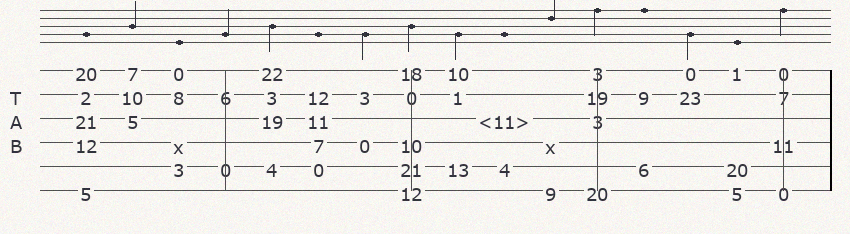0: (173, 62, 188, 79), (220, 158, 235, 175), (313, 158, 328, 175), (359, 134, 374, 151), (406, 86, 421, 103), (685, 62, 700, 79), (778, 62, 793, 79), (778, 182, 793, 199)
1: (452, 86, 467, 103), (731, 62, 746, 79)
10: (121, 86, 147, 103), (400, 134, 426, 151), (447, 62, 473, 79)
11: (307, 110, 333, 127), (772, 134, 798, 151)
12: (75, 134, 101, 151), (307, 86, 333, 103), (400, 182, 426, 199)
13: (447, 158, 473, 175)
18: (400, 62, 426, 79)
19: (261, 110, 287, 127), (586, 86, 612, 103)
2: (80, 86, 95, 103)
20: (75, 62, 101, 79), (586, 182, 612, 199), (726, 158, 752, 175)
21: (75, 110, 101, 127), (400, 158, 426, 175)
22: (261, 62, 287, 79)
23: (679, 86, 705, 103)
3: (173, 158, 188, 175), (266, 86, 281, 103), (359, 86, 374, 103), (592, 62, 607, 79), (592, 110, 607, 127)
4: (266, 158, 281, 175), (499, 158, 514, 175)
5: (80, 182, 95, 199), (127, 110, 142, 127), (731, 182, 746, 199)
6: (220, 86, 235, 103), (638, 158, 653, 175)
7: (127, 62, 142, 79), (313, 134, 328, 151), (778, 86, 793, 103)
8: (173, 86, 188, 103)
9: (545, 182, 560, 199), (638, 86, 653, 103)
harmonic: (478, 110, 534, 127)
x: (173, 135, 188, 149), (545, 135, 560, 149)
